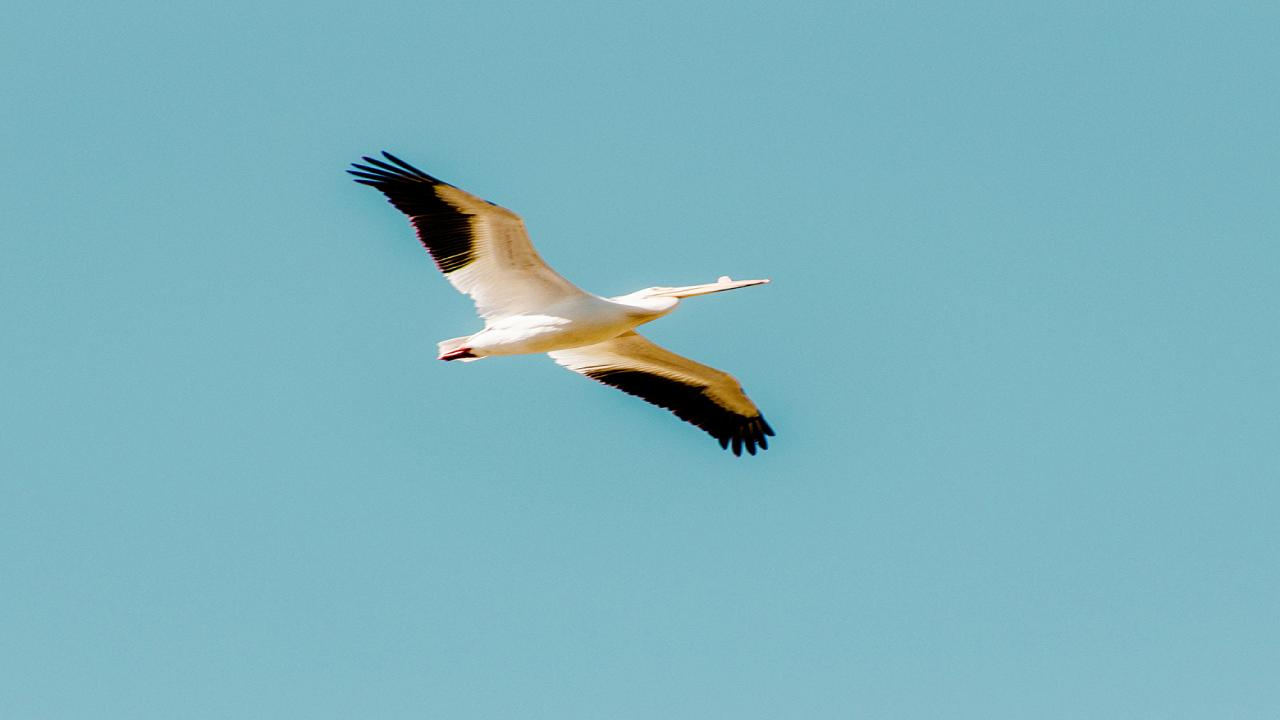Bird: (331, 141, 791, 464)
